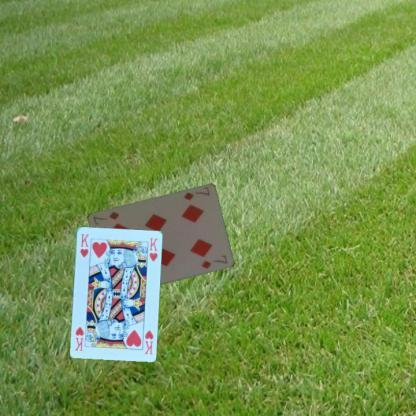7d: (181, 184, 211, 202)
Kh: (142, 326, 154, 356), (78, 231, 90, 258)
